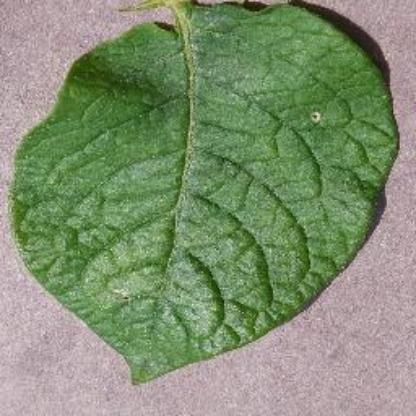Healthy-plant: (10, 0, 402, 386)
